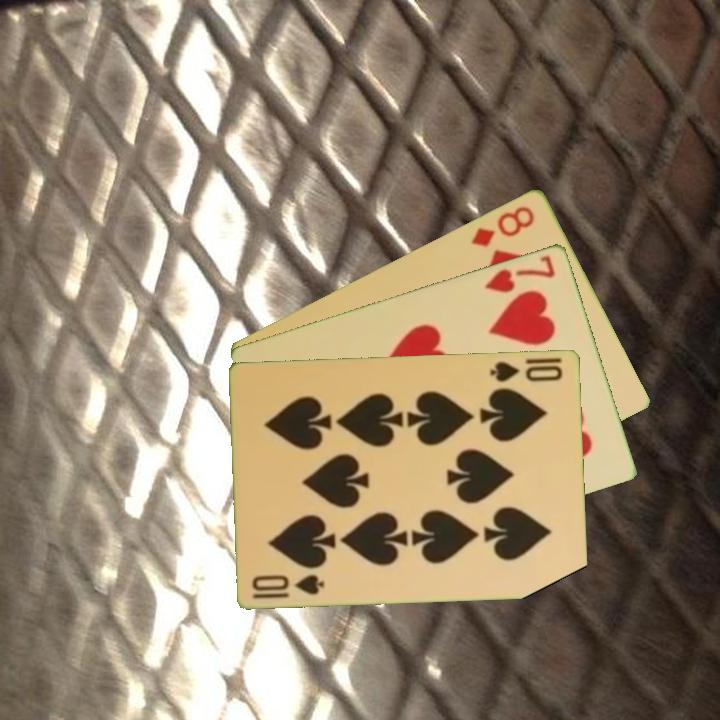10s: (249, 571, 328, 601), (487, 357, 566, 385)
7h: (481, 251, 558, 296)
8d: (467, 202, 538, 249)
